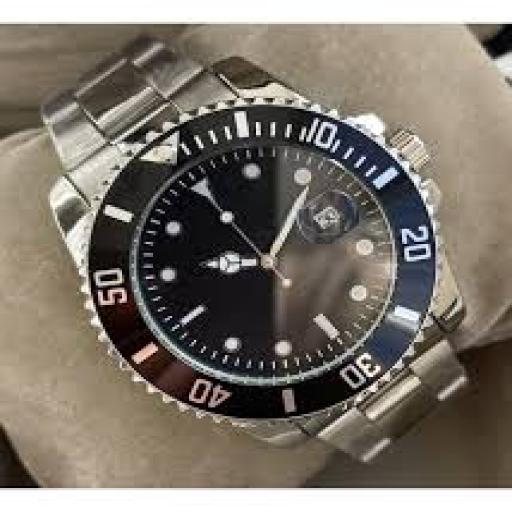KolSaati: (13, 34, 497, 466)
